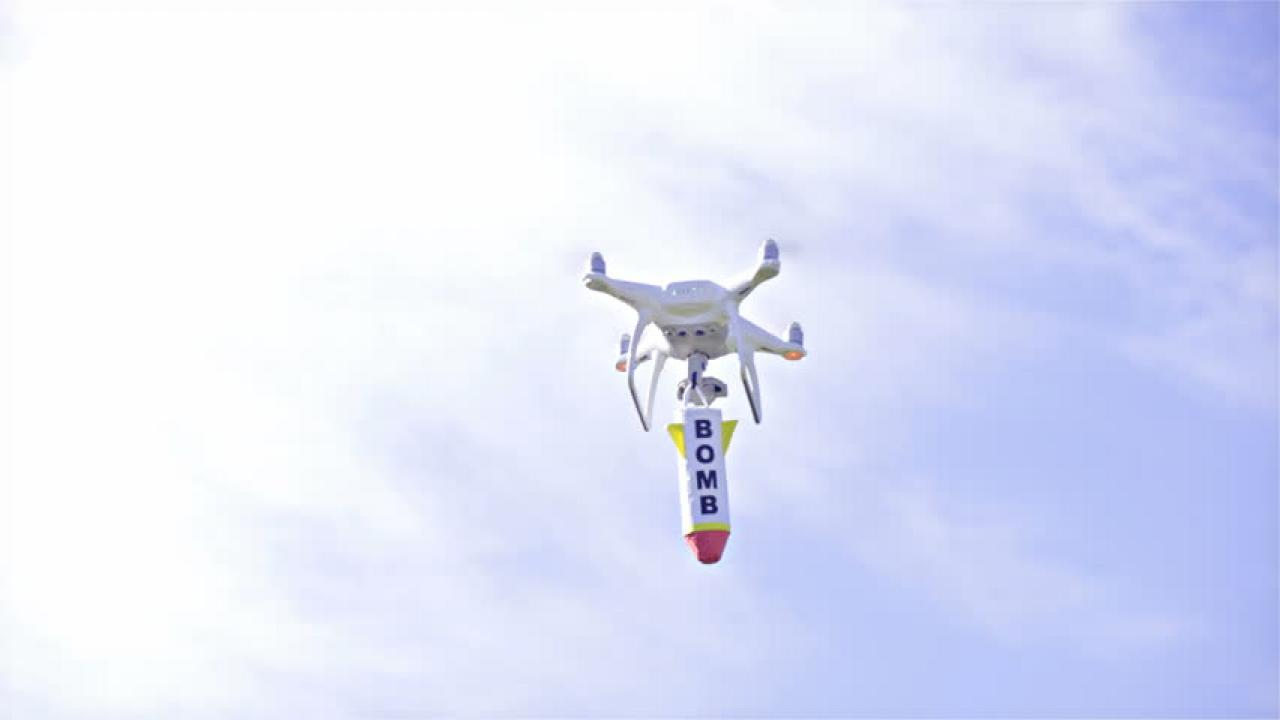Drone: (571, 230, 819, 437)
